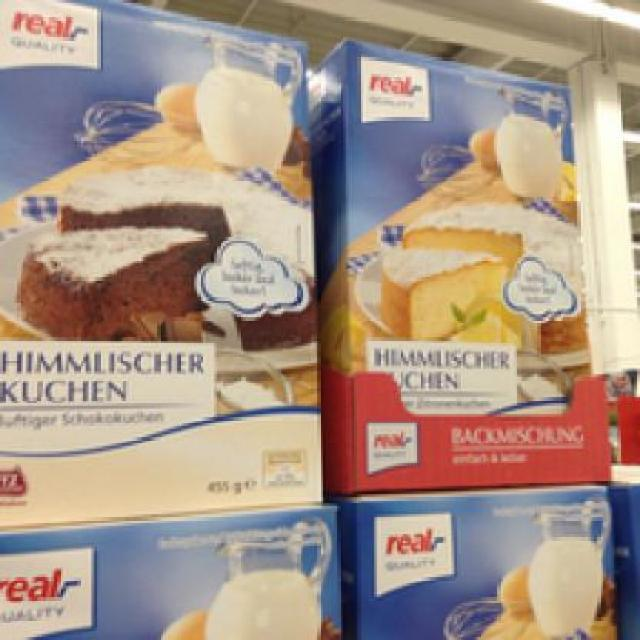Cake: (0, 3, 317, 523), (326, 8, 617, 486)
